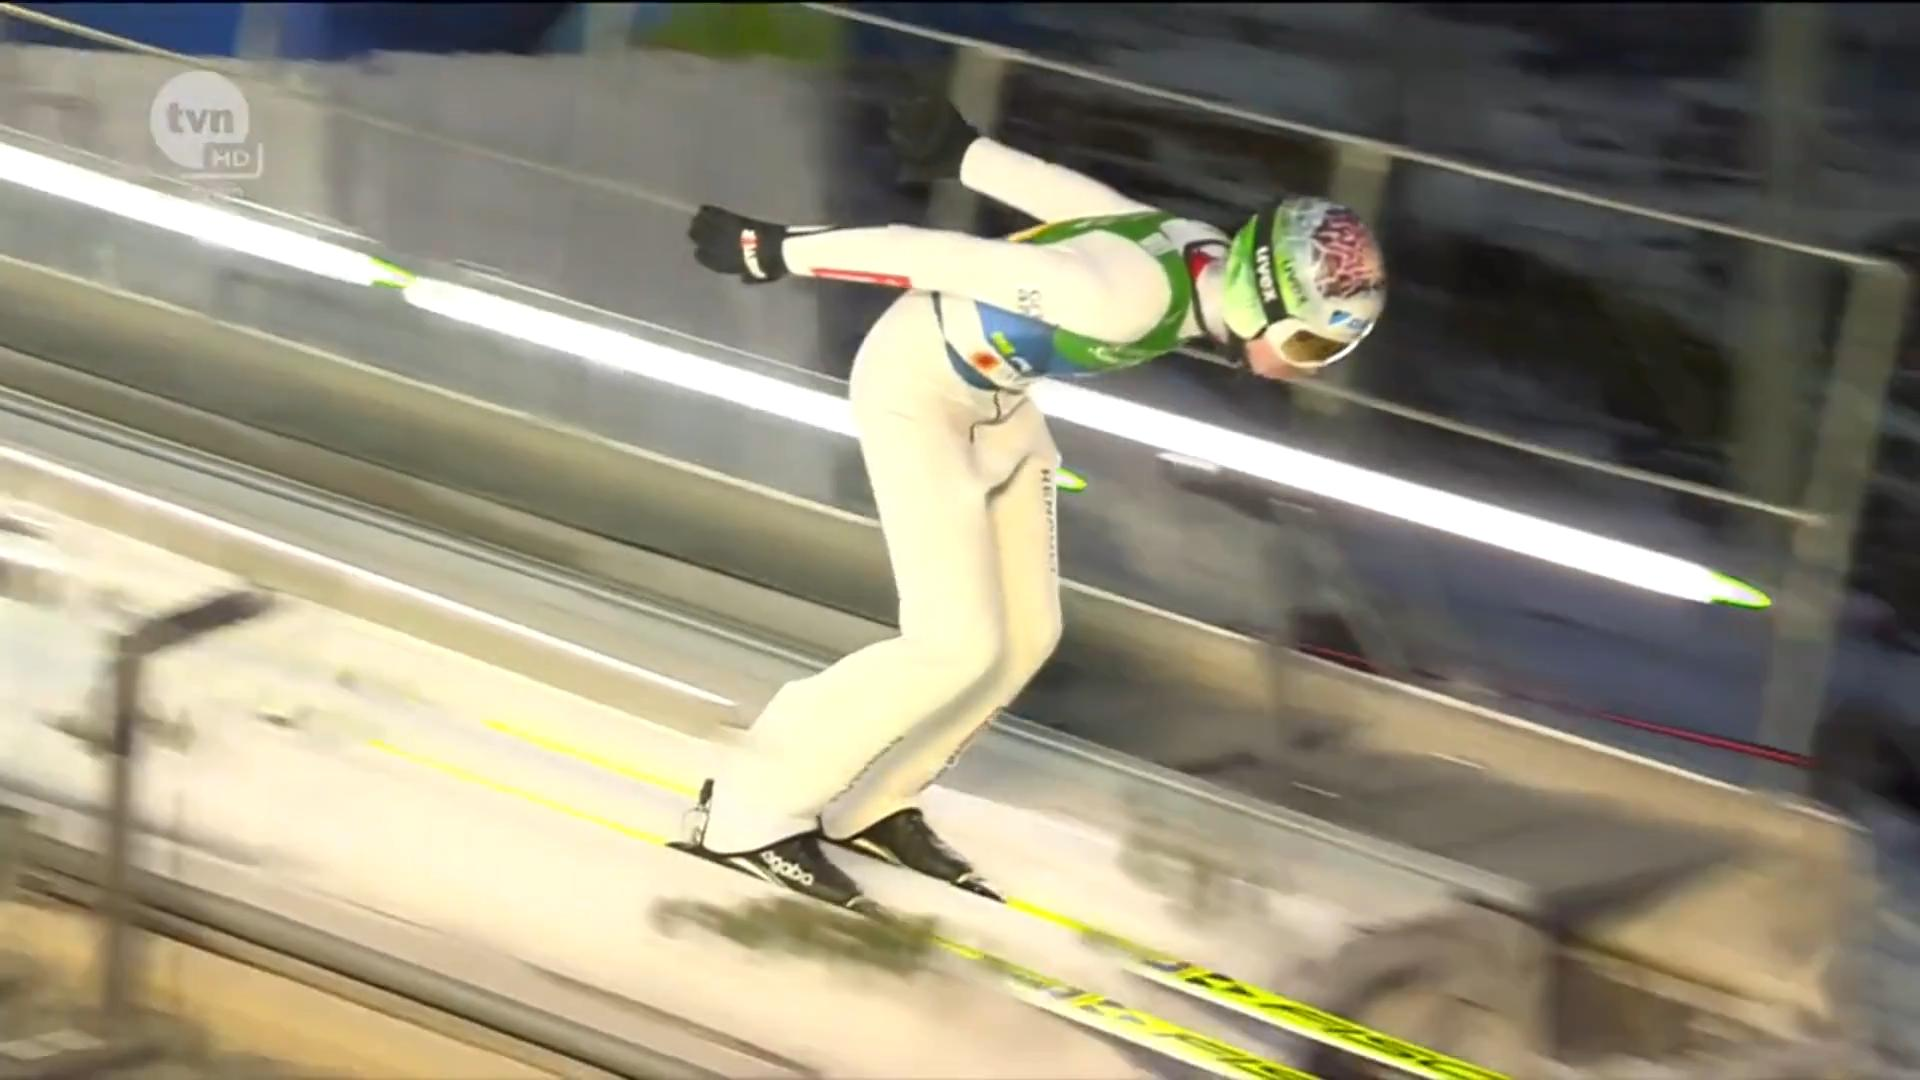prog: (1371, 840, 1743, 975)
